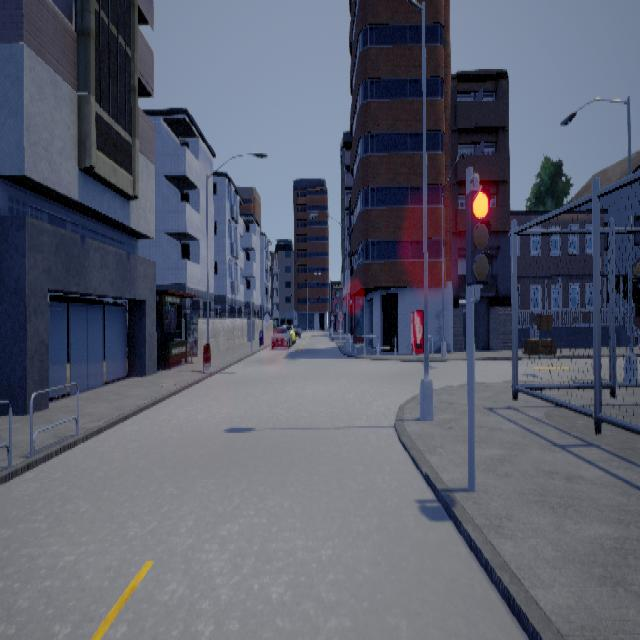red_light: (464, 172, 491, 301)
vehicle: (270, 323, 300, 349)
